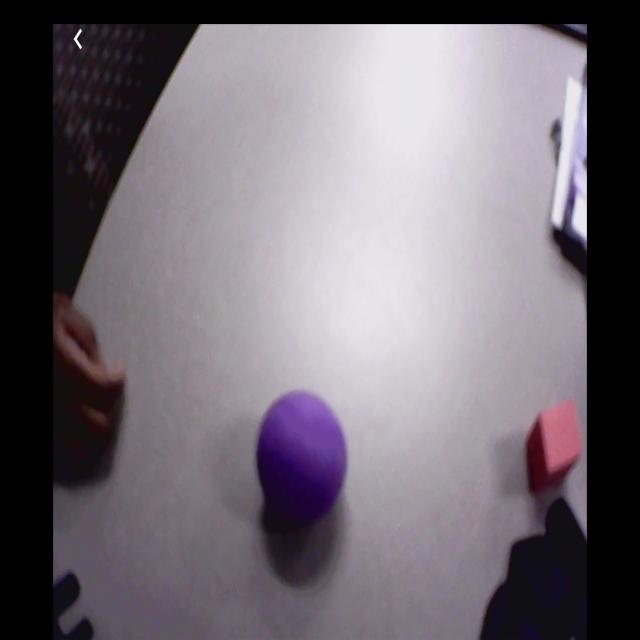ball: (257, 394, 347, 517)
